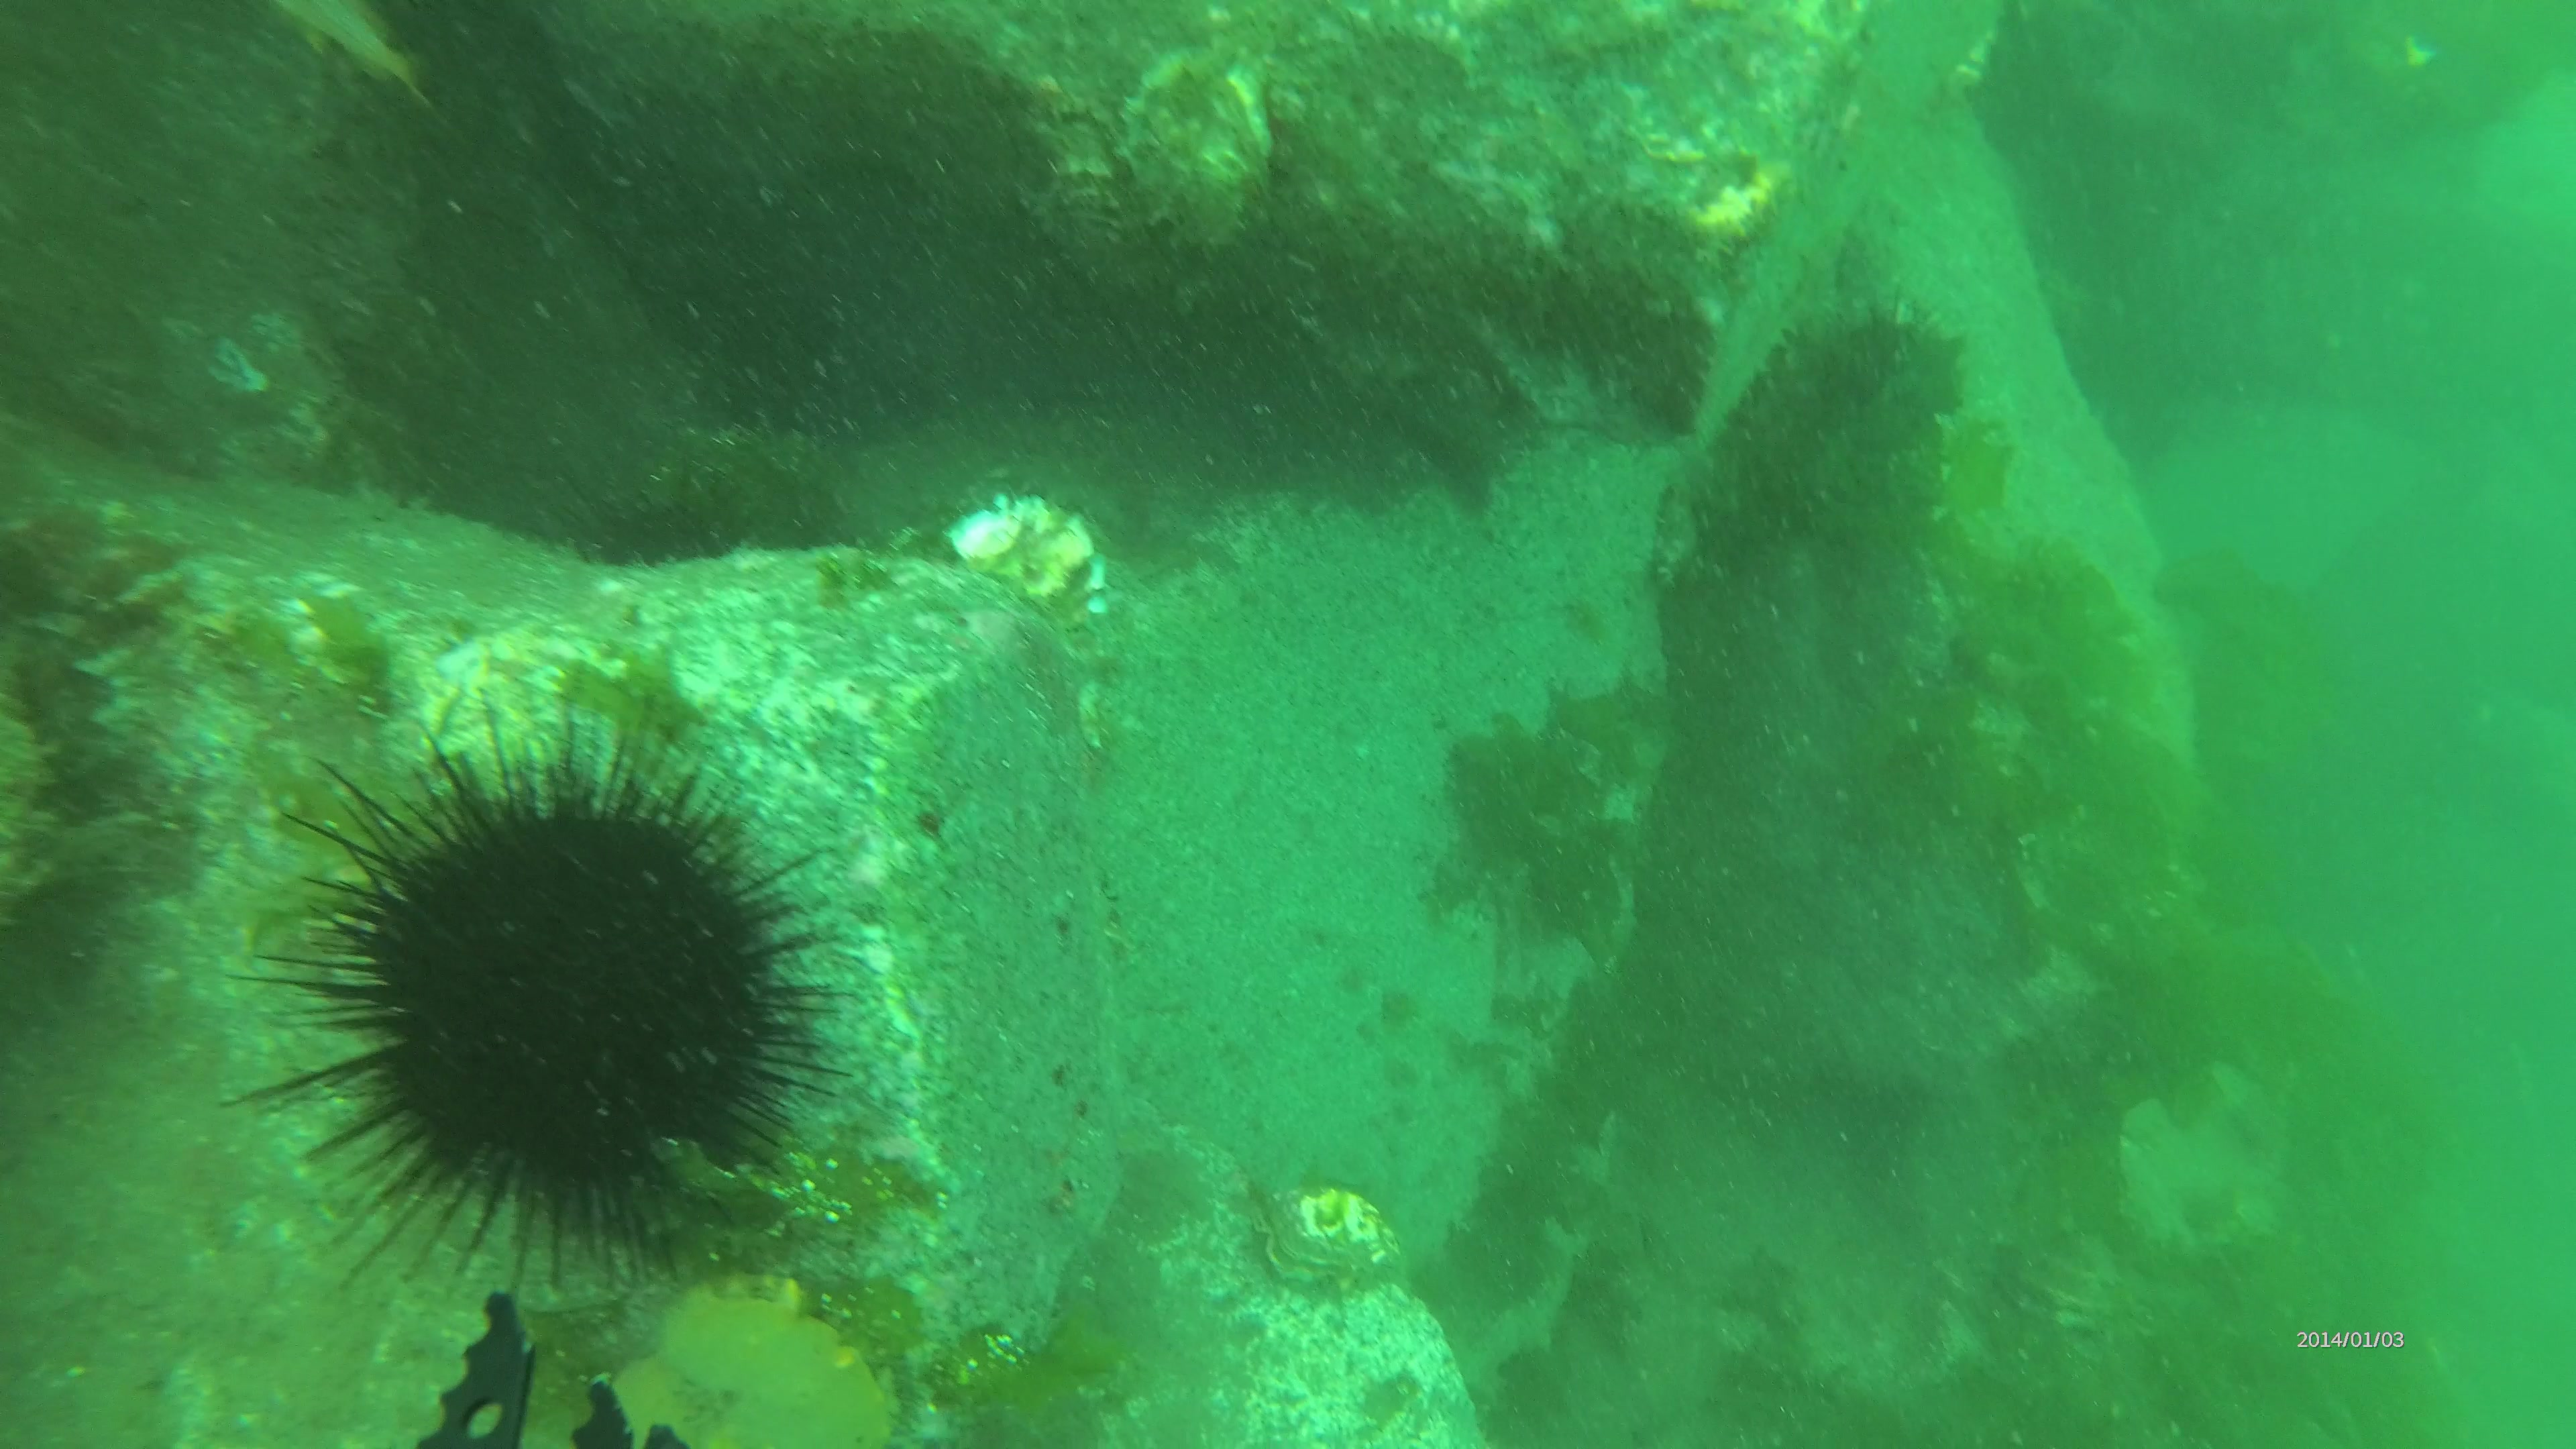echinus: (216, 694, 858, 1307), (566, 478, 754, 623)
